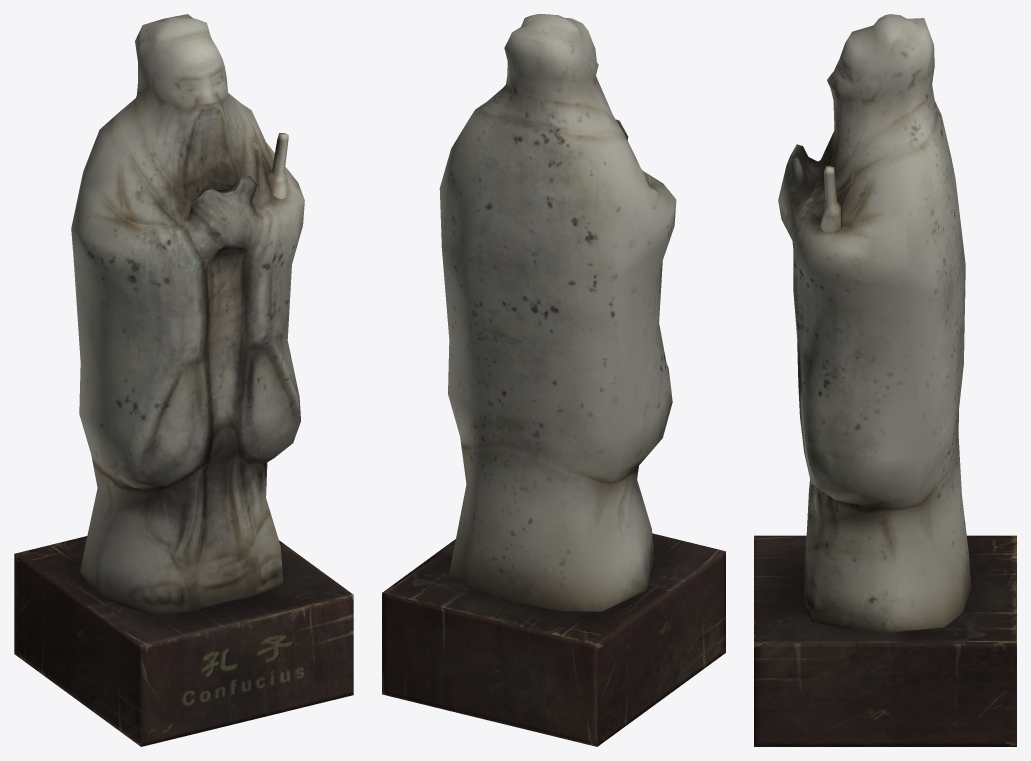
The model's file is statue_confucius.dae.
3 renders of one model, left to right at view 1: azimuth 30°, elevation 25°; view 2: azimuth 150°, elevation 25°; view 3: azimuth 270°, elevation 25°, orthographic. The views are drawn at different scales.
Visible parts, largest first — view 1: polymsh1; view 2: polymsh1; view 3: polymsh1.
Part boxes in pixels (x1,y1,x2,y2): polymsh1: (14,14,353,746); polymsh1: (382,14,725,746); polymsh1: (754,14,1016,746).
Size of the model in its own units: 7.48 by 21.74 by 7.68.
